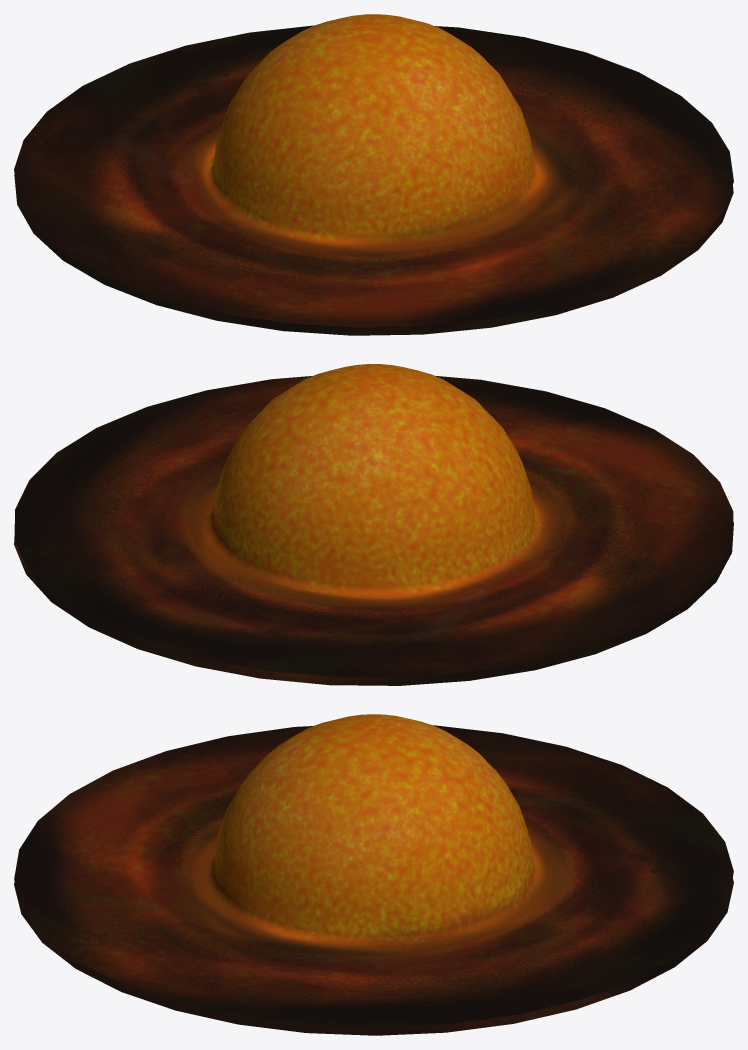
Rendered from Sun.fbx.
3 views of the same model, one above another, from view 1: azimuth 30°, elevation 25°; view 2: azimuth 150°, elevation 25°; view 3: azimuth 270°, elevation 25° (orthographic).
Parts seen in each view (by area): view 1: Circle; view 2: Circle; view 3: Circle.
Part boxes in pixels (x1,y1,x2,y2): Circle: (14,14,733,335); Circle: (14,364,733,685); Circle: (14,714,733,1035).
Bounding box in the file's own units: 1735 × 411 × 1735.
